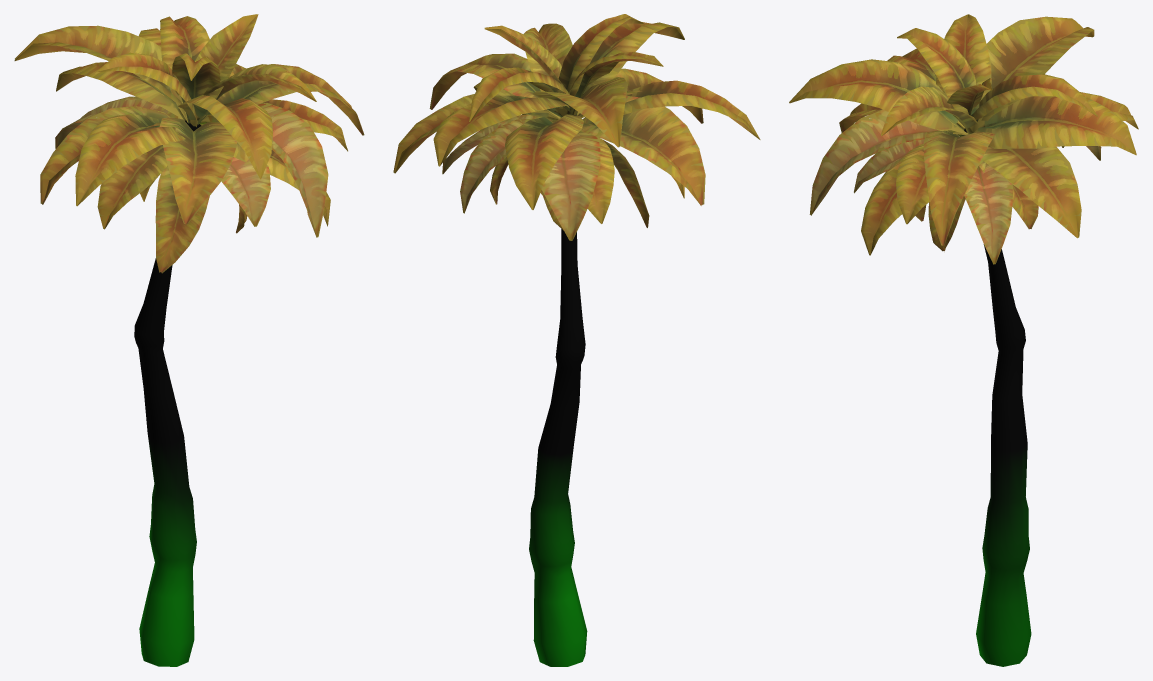
The model's file is P_DesertPalmTree05.obj.
3 views of the same model, side by side, from view 1: azimuth 30°, elevation 25°; view 2: azimuth 150°, elevation 25°; view 3: azimuth 270°, elevation 25° (orthographic). The views are drawn at different scales.
Bounding box in the file's own units: 7.87 × 15.23 × 7.82.
